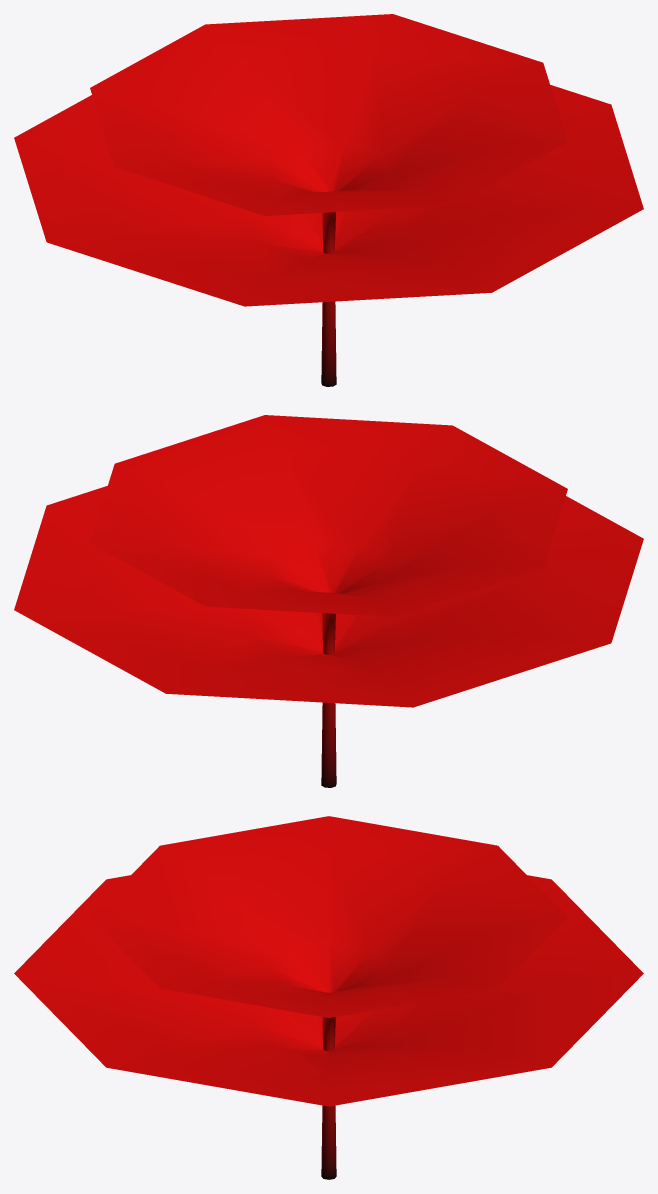
File: TabularCoralDouble_Geo.fbx
3 views of the same model, one above another, from view 1: azimuth 30°, elevation 25°; view 2: azimuth 150°, elevation 25°; view 3: azimuth 270°, elevation 25° (orthographic). The views are drawn at different scales.
Visible parts, largest first — view 1: TabularCoralDouble_Geo; view 2: TabularCoralDouble_Geo; view 3: TabularCoralDouble_Geo.
Part boxes in pixels (left/top/right/bottom): TabularCoralDouble_Geo: left=14, top=14, right=643, bottom=386; TabularCoralDouble_Geo: left=14, top=415, right=643, bottom=787; TabularCoralDouble_Geo: left=14, top=816, right=643, bottom=1179.
Bounding box in the file's own units: 4.13 × 1.88 × 4.13.
